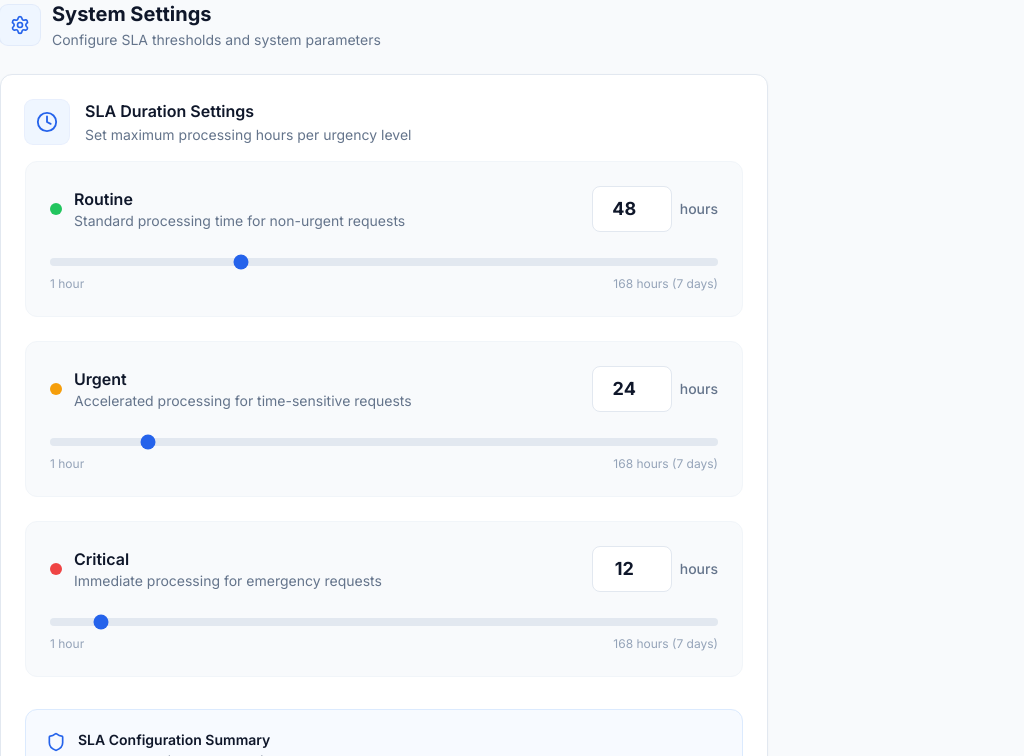
Scenario: AdminSettings › saves settings and shows success toast
Replace the text in the 1st number field with "72": (632,209) [592,186,672,232]
(page scrolled)
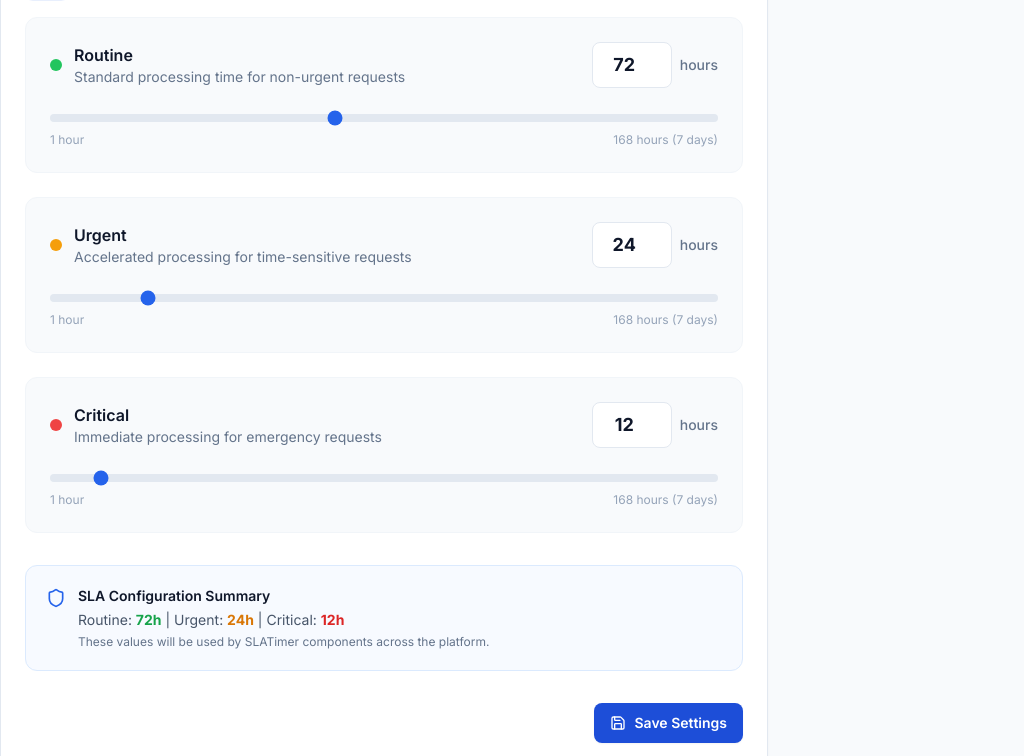
Click the button "Save Settings": (669,723) [594,703,743,743]
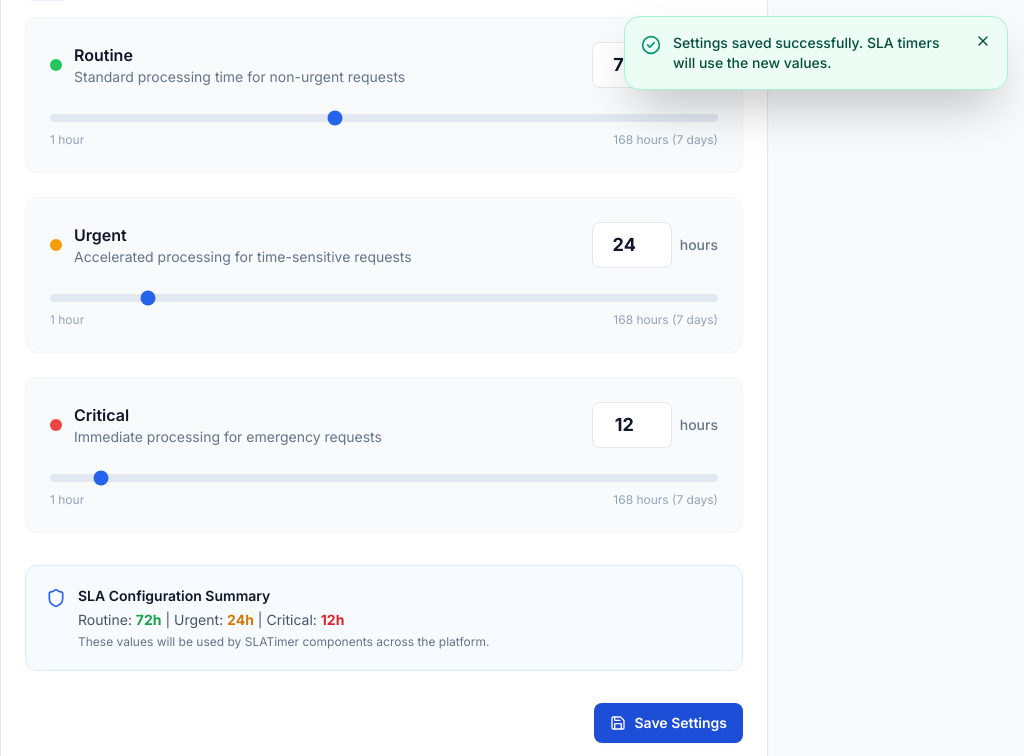
Expected: the text "SLA timers will use the new values" is shown, [673,34,939,71]
